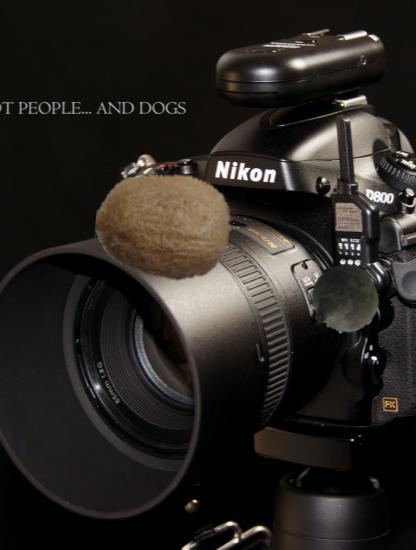Beetroot: (308, 263, 380, 335)
Kiwi: (95, 158, 236, 299)
